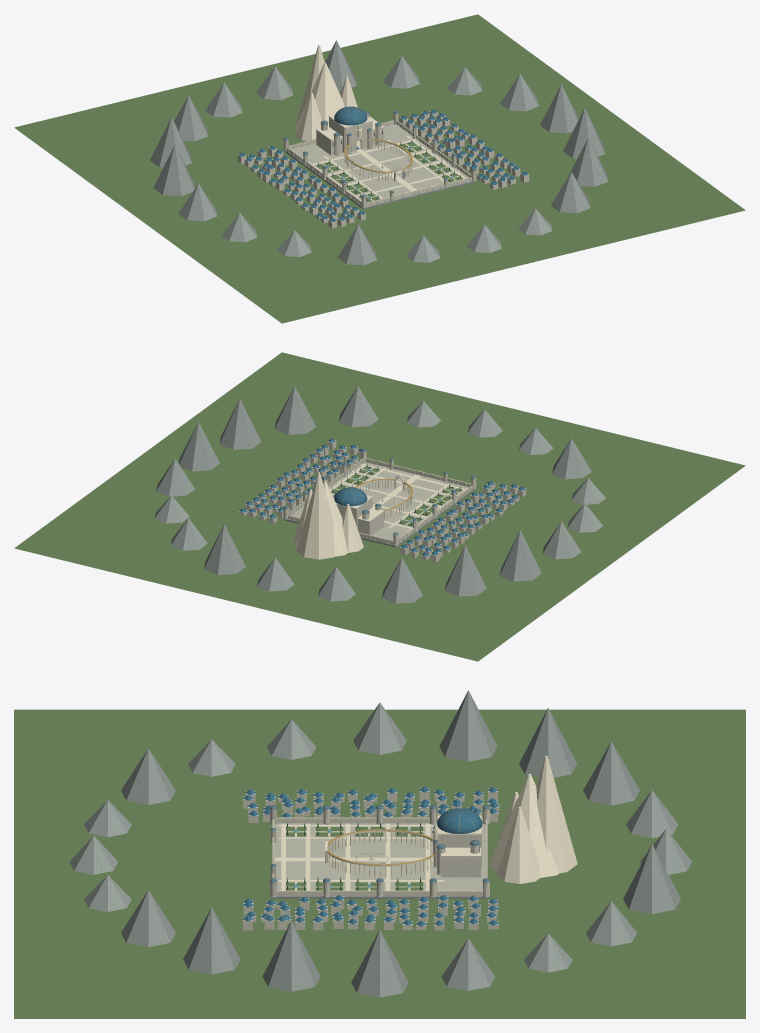
The model's file is demacian_citadel.glb.
3 views of the same model, one above another, from view 1: azimuth 30°, elevation 25°; view 2: azimuth 150°, elevation 25°; view 3: azimuth 270°, elevation 25° (orthographic). The views are drawn at different scales.
Parts seen in each view (by area): view 1: OutsideMeadow, DistantMountains, DistantCity, CourtyardPaving, CityRoofs, Architecture__Mountain, MarbleAvenues, Gardens, Architecture__HallWalls, Architecture__HallRoof; view 2: OutsideMeadow, DistantMountains, DistantCity, Architecture__Mountain, CourtyardPaving, CityRoofs, MarbleAvenues, Gardens, Architecture__HallRoof, Architecture__PalaceWing_-49; view 3: OutsideMeadow, DistantMountains, CourtyardPaving, Architecture__Mountain, DistantCity, CityRoofs, MarbleAvenues, Gardens, Architecture__Wall_130_0, Architecture__PalaceWing_49, Architecture__HallRoof, Architecture__Wall_-130_0 (+2 smaller).
Boxes of the visible parts, x1=… form: OutsideMeadow: x1=14, y1=14, x2=745, y2=323; DistantMountains: x1=150, y1=40, x2=608, y2=265; DistantCity: x1=237, y1=111, x2=529, y2=228; CourtyardPaving: x1=291, y1=124, x2=468, y2=199; CityRoofs: x1=238, y1=109, x2=528, y2=221; Architecture__Mountain: x1=295, y1=45, x2=357, y2=140; MarbleAvenues: x1=308, y1=135, x2=467, y2=202; Gardens: x1=316, y1=142, x2=462, y2=201; Architecture__HallWalls: x1=329, y1=117, x2=372, y2=152; Architecture__HallRoof: x1=328, y1=106, x2=372, y2=128; OutsideMeadow: x1=14, y1=352, x2=745, y2=661; DistantMountains: x1=154, y1=386, x2=605, y2=603; DistantCity: x1=239, y1=440, x2=526, y2=562; Architecture__Mountain: x1=293, y1=472, x2=363, y2=559; CourtyardPaving: x1=291, y1=462, x2=468, y2=540; CityRoofs: x1=239, y1=438, x2=525, y2=556; MarbleAvenues: x1=330, y1=463, x2=467, y2=532; Gardens: x1=331, y1=466, x2=462, y2=526; Architecture__HallRoof: x1=333, y1=487, x2=372, y2=509; Architecture__PalaceWing_-49: x1=357, y1=507, x2=384, y2=535; OutsideMeadow: x1=14, y1=709, x2=745, y2=1018; DistantMountains: x1=69, y1=690, x2=691, y2=997; CourtyardPaving: x1=274, y1=823, x2=485, y2=890; Architecture__Mountain: x1=488, y1=755, x2=577, y2=883; DistantCity: x1=243, y1=788, x2=499, y2=930; CityRoofs: x1=242, y1=786, x2=499, y2=926; MarbleAvenues: x1=275, y1=823, x2=444, y2=890; Gardens: x1=286, y1=827, x2=423, y2=890; Architecture__Wall_130_0: x1=276, y1=890, x2=483, y2=896; Architecture__PalaceWing_49: x1=440, y1=847, x2=481, y2=877; Architecture__HallRoof: x1=437, y1=808, x2=482, y2=834; Architecture__Wall_-130_0: x1=276, y1=817, x2=483, y2=823.
Bounding box in the file's own units: 1100 × 201 × 1100.
1 material, 1 textured.
